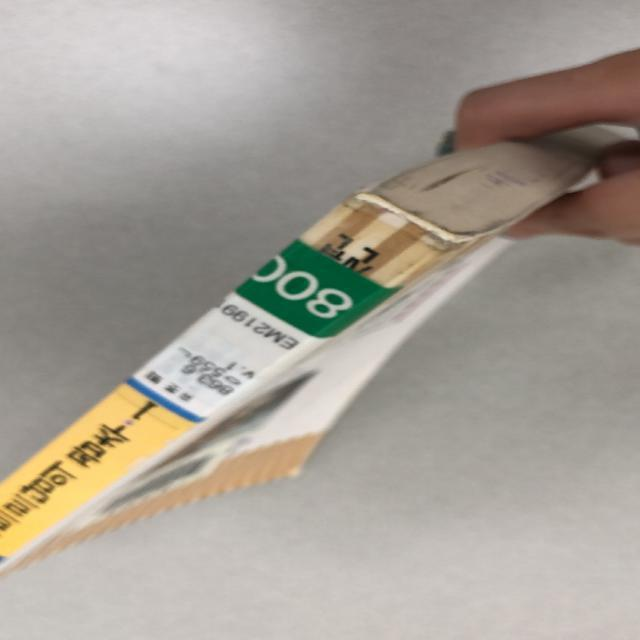Wornout: (349, 182, 516, 245)
